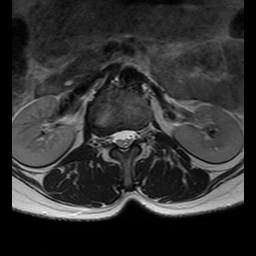CCS_normal: (119, 124, 128, 156)
LFS_normal: (138, 125, 145, 145)
LLS_normal: (128, 124, 137, 147)
RFS_normal: (104, 128, 113, 151)
RLS_normal: (112, 125, 120, 150)
